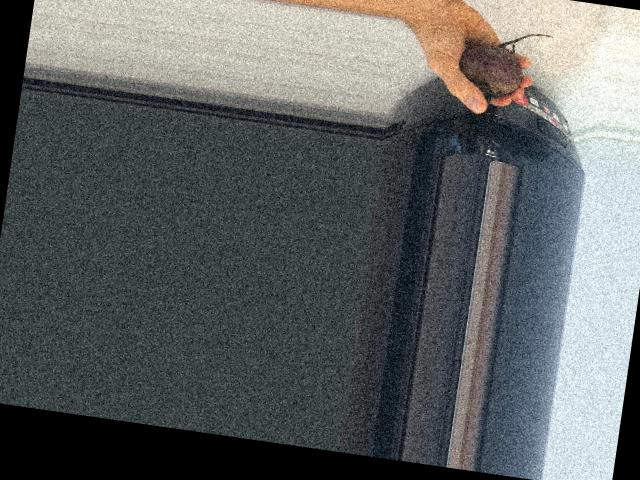beet: (455, 23, 553, 111)
